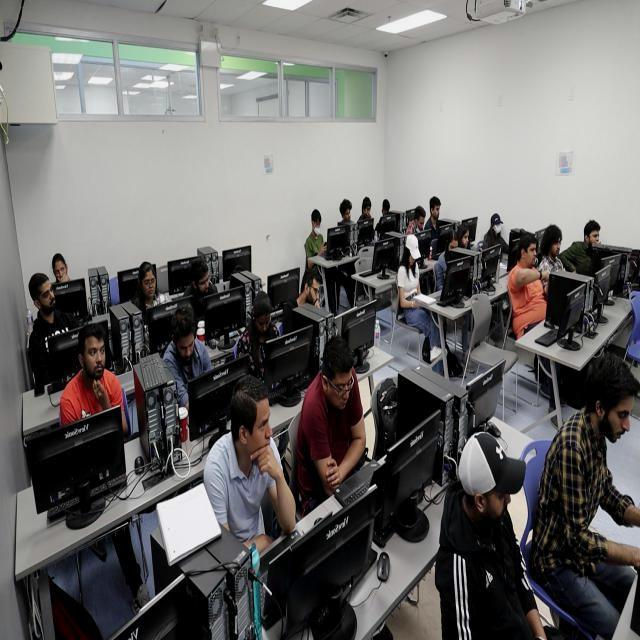Looking away: (246, 398, 273, 462), (608, 392, 636, 445), (329, 368, 354, 411), (484, 488, 512, 522), (38, 278, 56, 314), (178, 331, 195, 361), (254, 310, 272, 336), (142, 269, 156, 298), (197, 270, 210, 296), (460, 228, 470, 250), (433, 204, 441, 220)
Looking forward: (84, 335, 106, 378), (307, 279, 321, 305), (526, 242, 537, 268), (54, 260, 67, 282), (550, 235, 562, 258), (588, 227, 600, 248)
